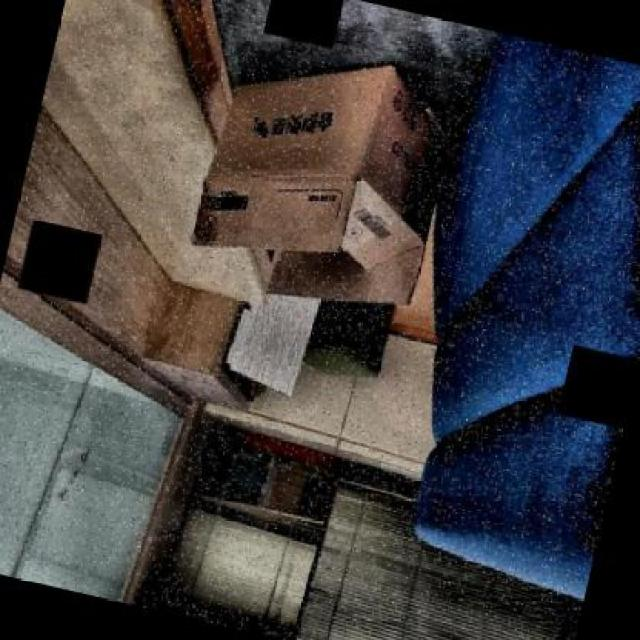box: (172, 18, 493, 340)
